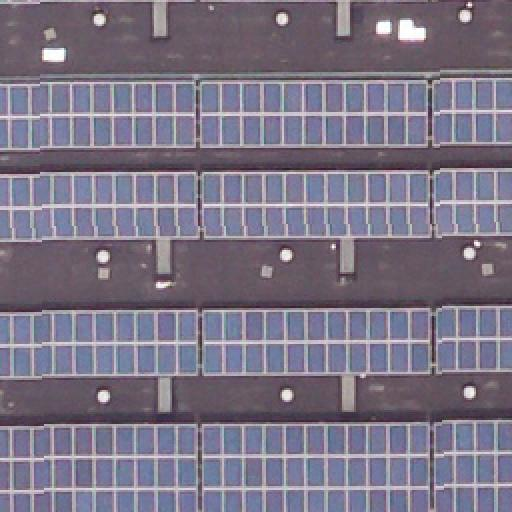solar-panel: (198, 80, 512, 148), (201, 422, 431, 512), (1, 424, 199, 512), (201, 172, 431, 240), (202, 307, 430, 373), (1, 310, 199, 378), (1, 172, 199, 240), (0, 84, 196, 152), (433, 422, 511, 512), (433, 171, 511, 237), (433, 306, 511, 370), (1, 1, 167, 7), (200, 0, 428, 4)
